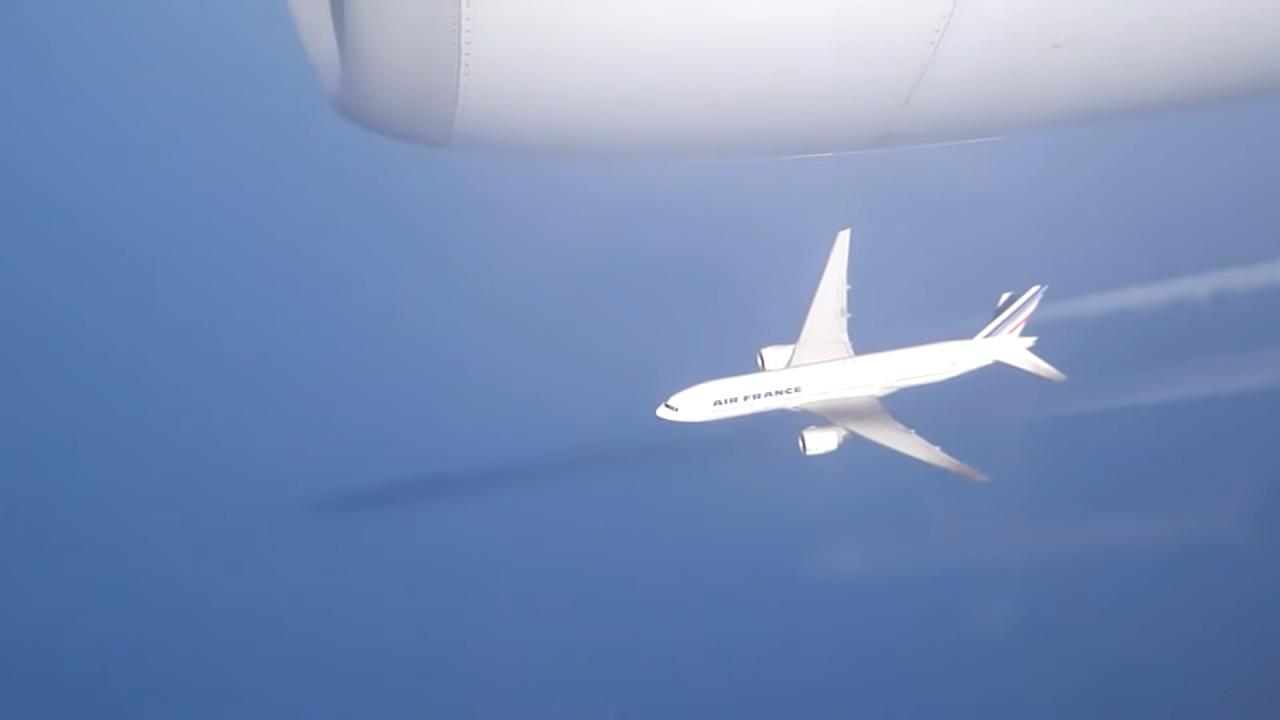Airplane: (641, 210, 1083, 500)
